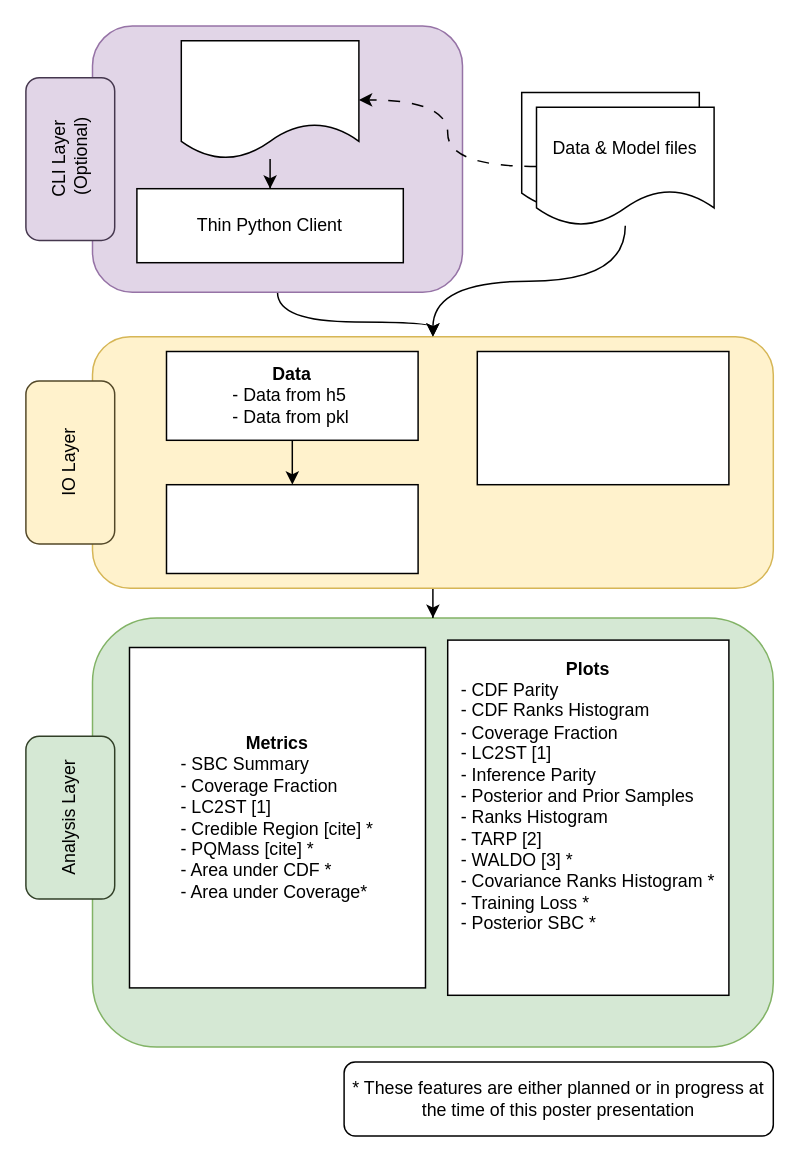
This 799x1162 diagram has some shape labels left out. The shapes that lost their labels are listed below. From the top down, each one's centre as x and y in pixels, then its label:
the point at 269,99: Configuration yaml
the point at 602,417: Models - NPE Model pkl - Generic pytorch model * - HNPE Model pkl *
the point at 291,528: Simulator - Custom (.py file) - Lookup Table (data obj)
